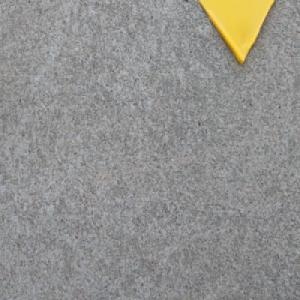PlasticPart: (195, 0, 275, 65)
